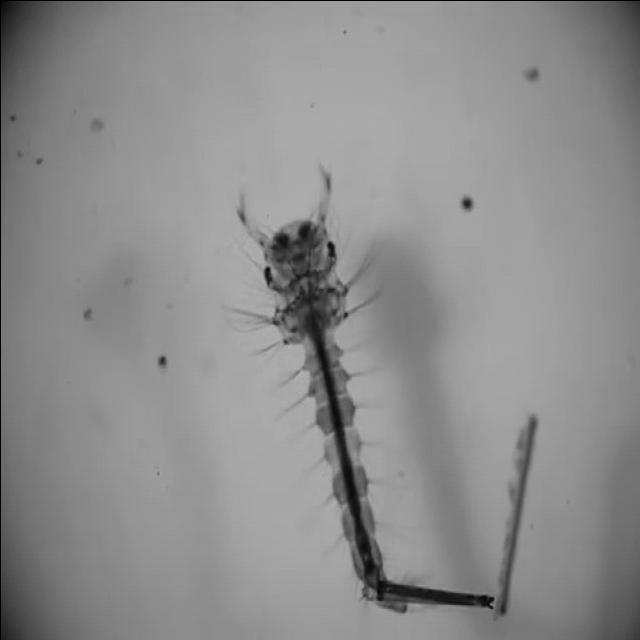larvas: (246, 207, 536, 613)
